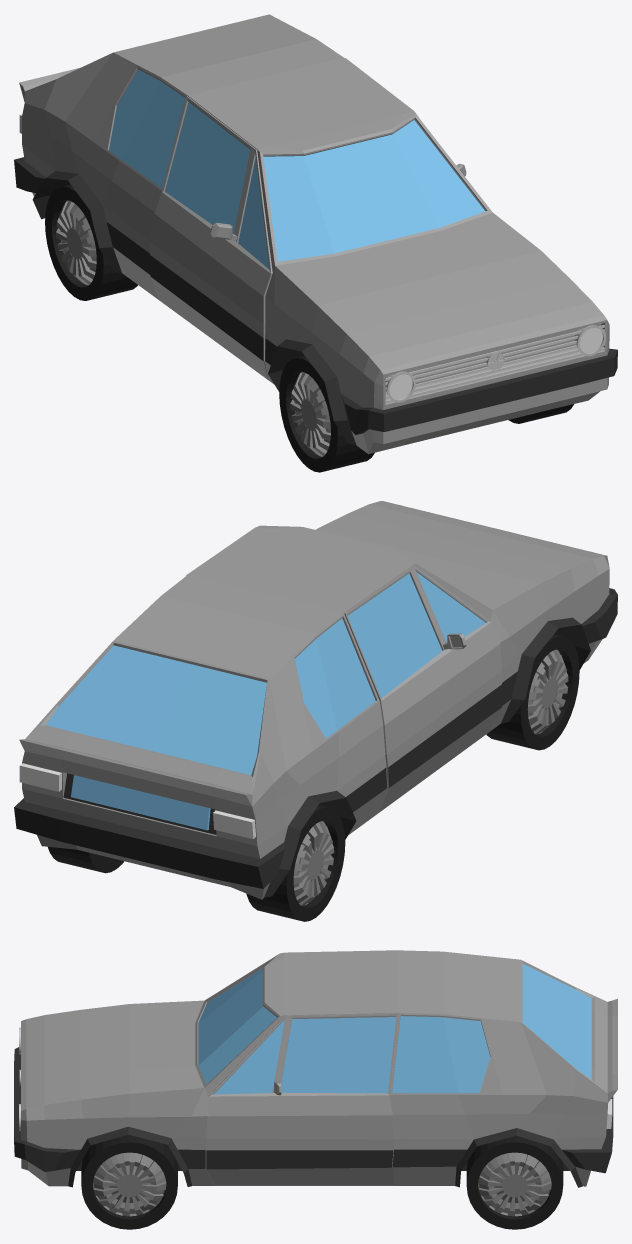
File: ThirdCarMat.fbx
3 views of the same model, one above another, from view 1: azimuth 30°, elevation 25°; view 2: azimuth 150°, elevation 25°; view 3: azimuth 270°, elevation 25° (orthographic). The views are drawn at different scales.
Parts seen in each view (by area): view 1: Lights; view 2: Lights; view 3: Lights.
Part boxes in pixels (left/top/right/bottom): Lights: left=14, top=14, right=617, bottom=472; Lights: left=14, top=501, right=617, bottom=921; Lights: left=14, top=950, right=617, bottom=1229.
Size of the model in its own units: 424 by 382 by 1049.
